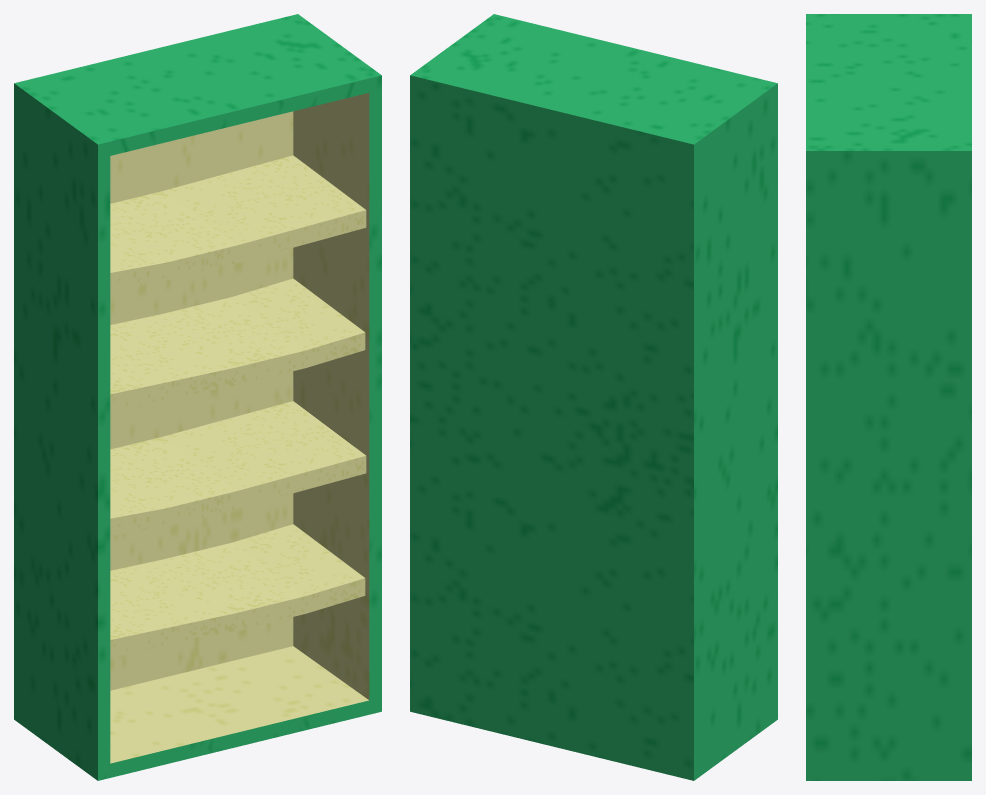
File: library_bookshelf_skinny_empty_green.fbx
The picture shows the model from 3 angles, left to right: view 1: azimuth 30°, elevation 25°; view 2: azimuth 150°, elevation 25°; view 3: azimuth 270°, elevation 25°; orthographic projection.
Visible parts, largest first — view 1: Cube.022, Cube.023; view 2: Cube.022; view 3: Cube.022.
Part boxes in pixels (<box>): Cube.022: <box>14,14,381,780</box>; Cube.023: <box>110,155,366,657</box>; Cube.022: <box>410,14,777,780</box>; Cube.022: <box>806,14,971,780</box>.
Size of the model in its own units: 117 by 251 by 59.89.
